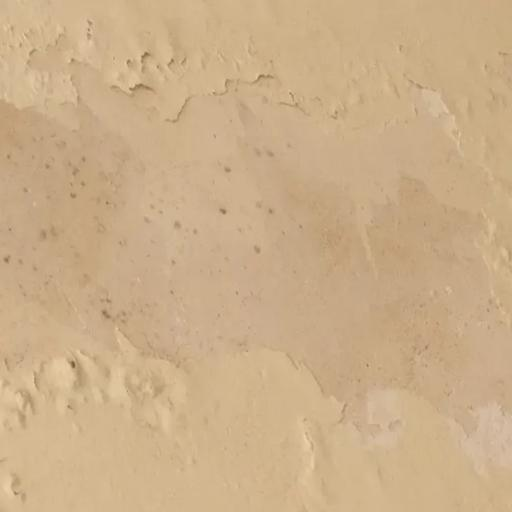peeling: (0, 17, 512, 473)
